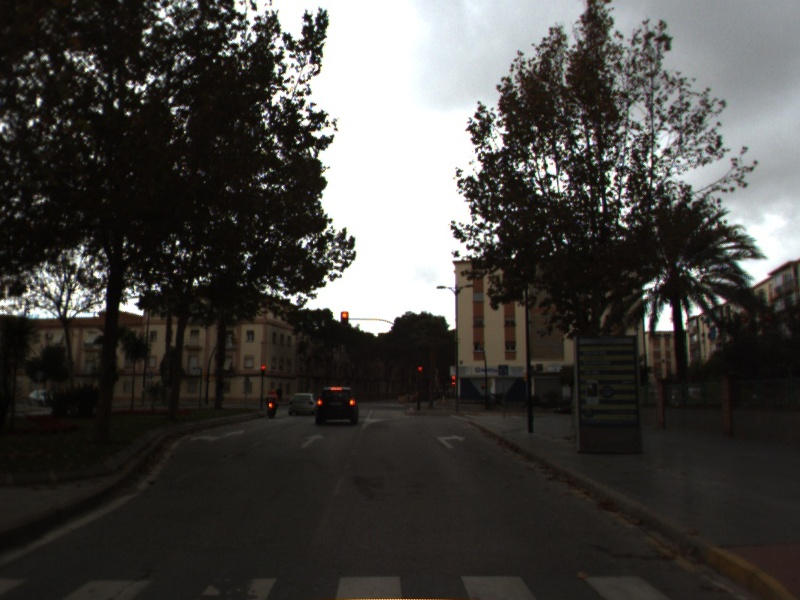RIGHT: (433, 432, 469, 451)
STRAIGHT: (297, 431, 327, 450)
STRAIGHT_LEFT: (187, 427, 248, 445)
